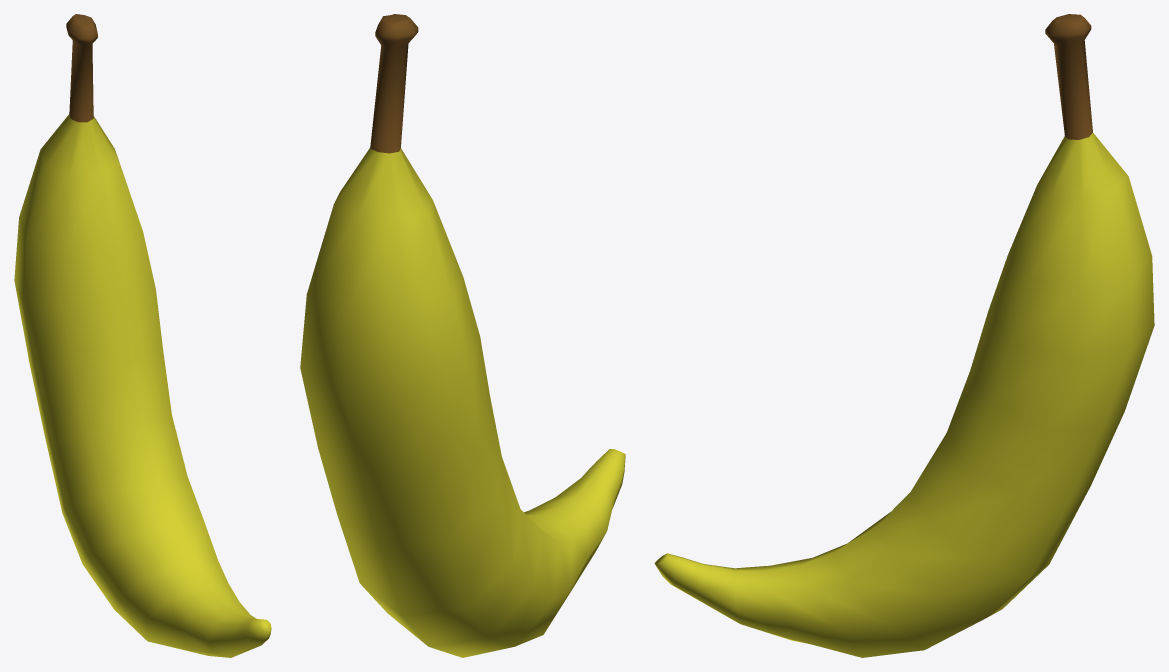
The model's file is Banana.fbx.
The picture shows the model from 3 angles, left to right: view 1: azimuth 30°, elevation 25°; view 2: azimuth 150°, elevation 25°; view 3: azimuth 270°, elevation 25°; orthographic projection. The views are drawn at different scales.
Visible parts, largest first — view 1: Banana; view 2: Banana; view 3: Banana.
Boxes of the visible parts, box(x1,y1,x2,y2) form: Banana: box(14, 14, 271, 657); Banana: box(300, 14, 625, 657); Banana: box(654, 14, 1154, 657).
Size of the model in its own units: 71.5 by 308 by 219.
